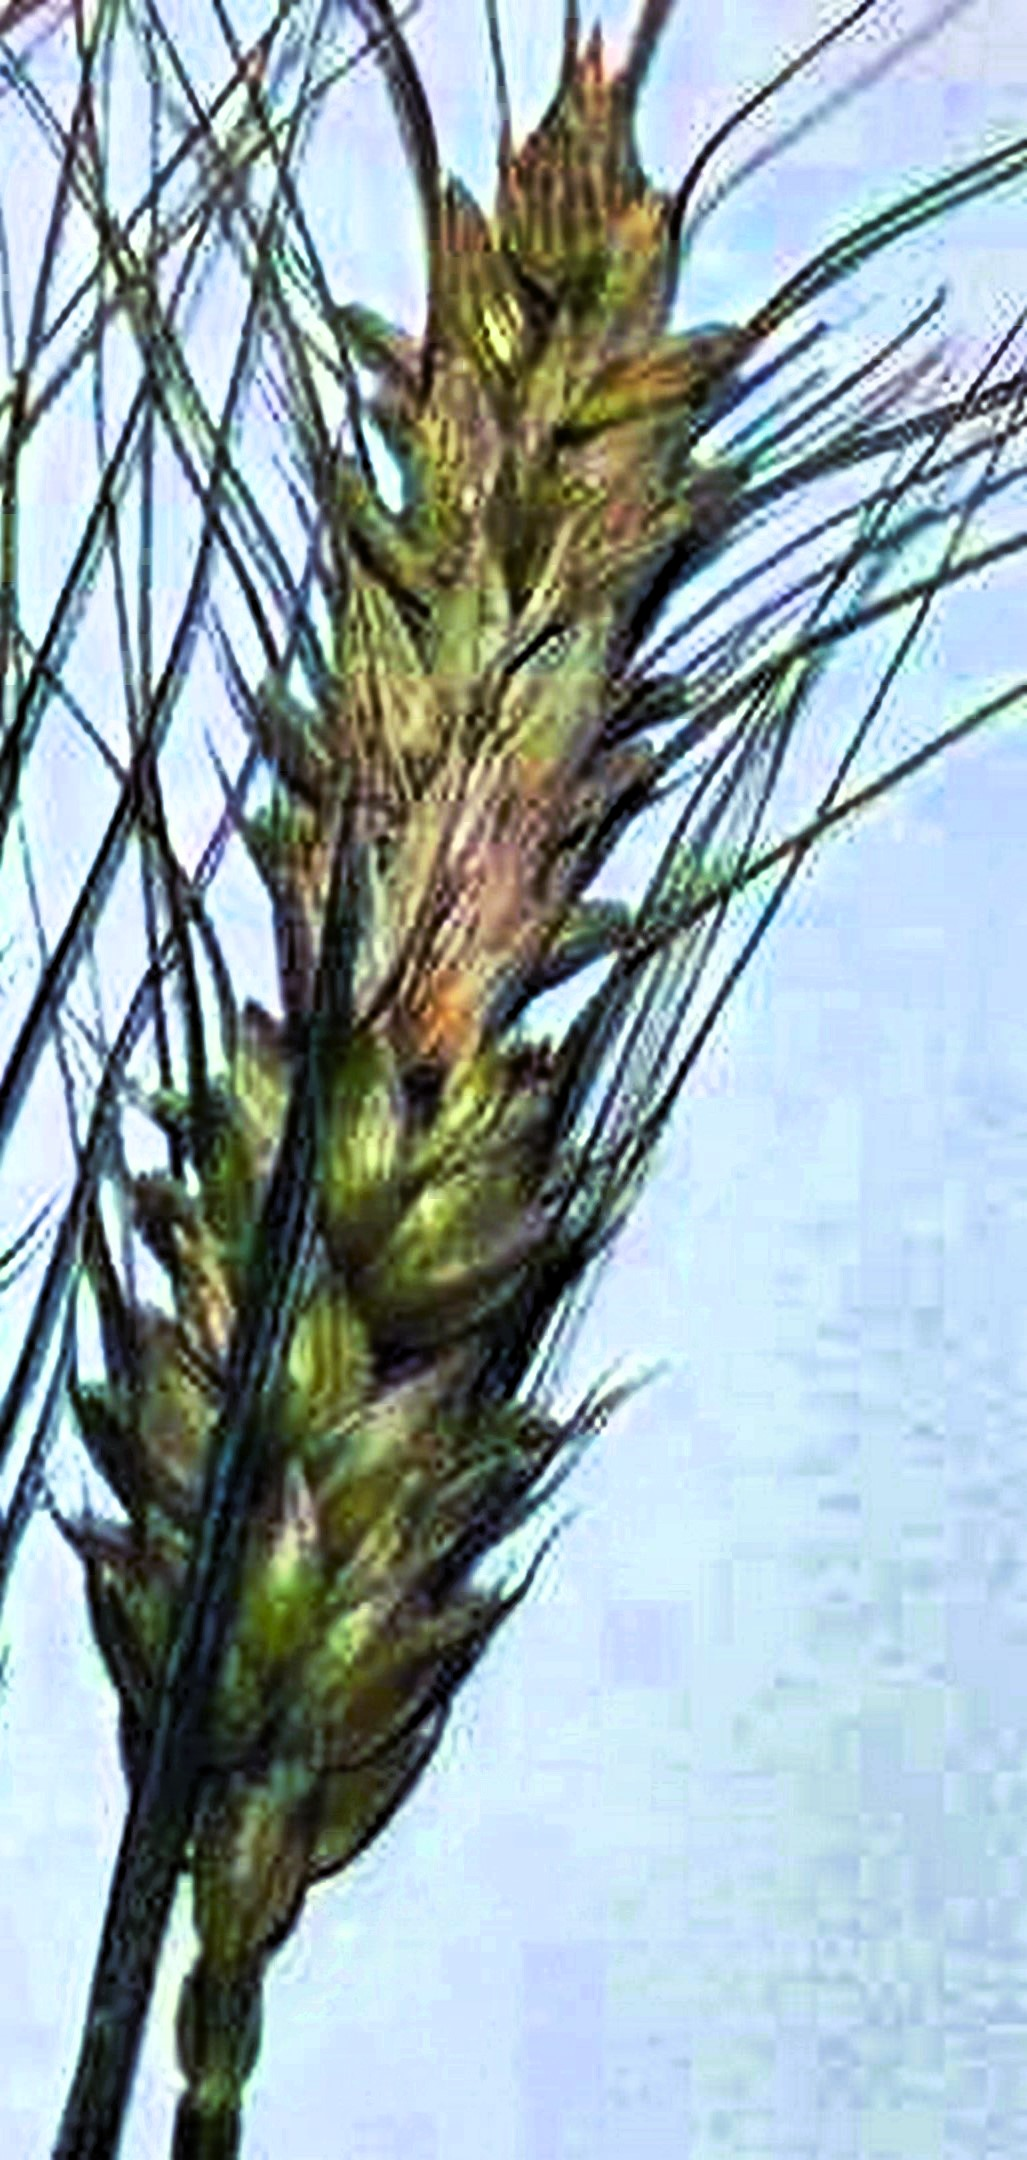Wheat scab: (114, 102, 732, 1774)
